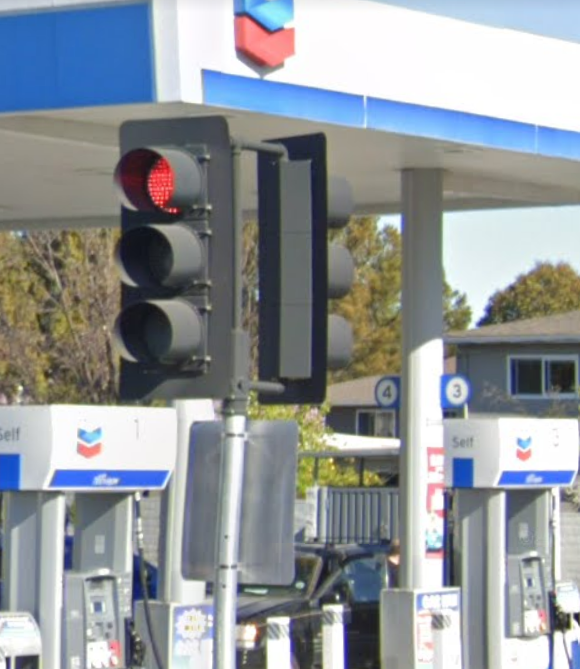red_light: (119, 125, 225, 398)
